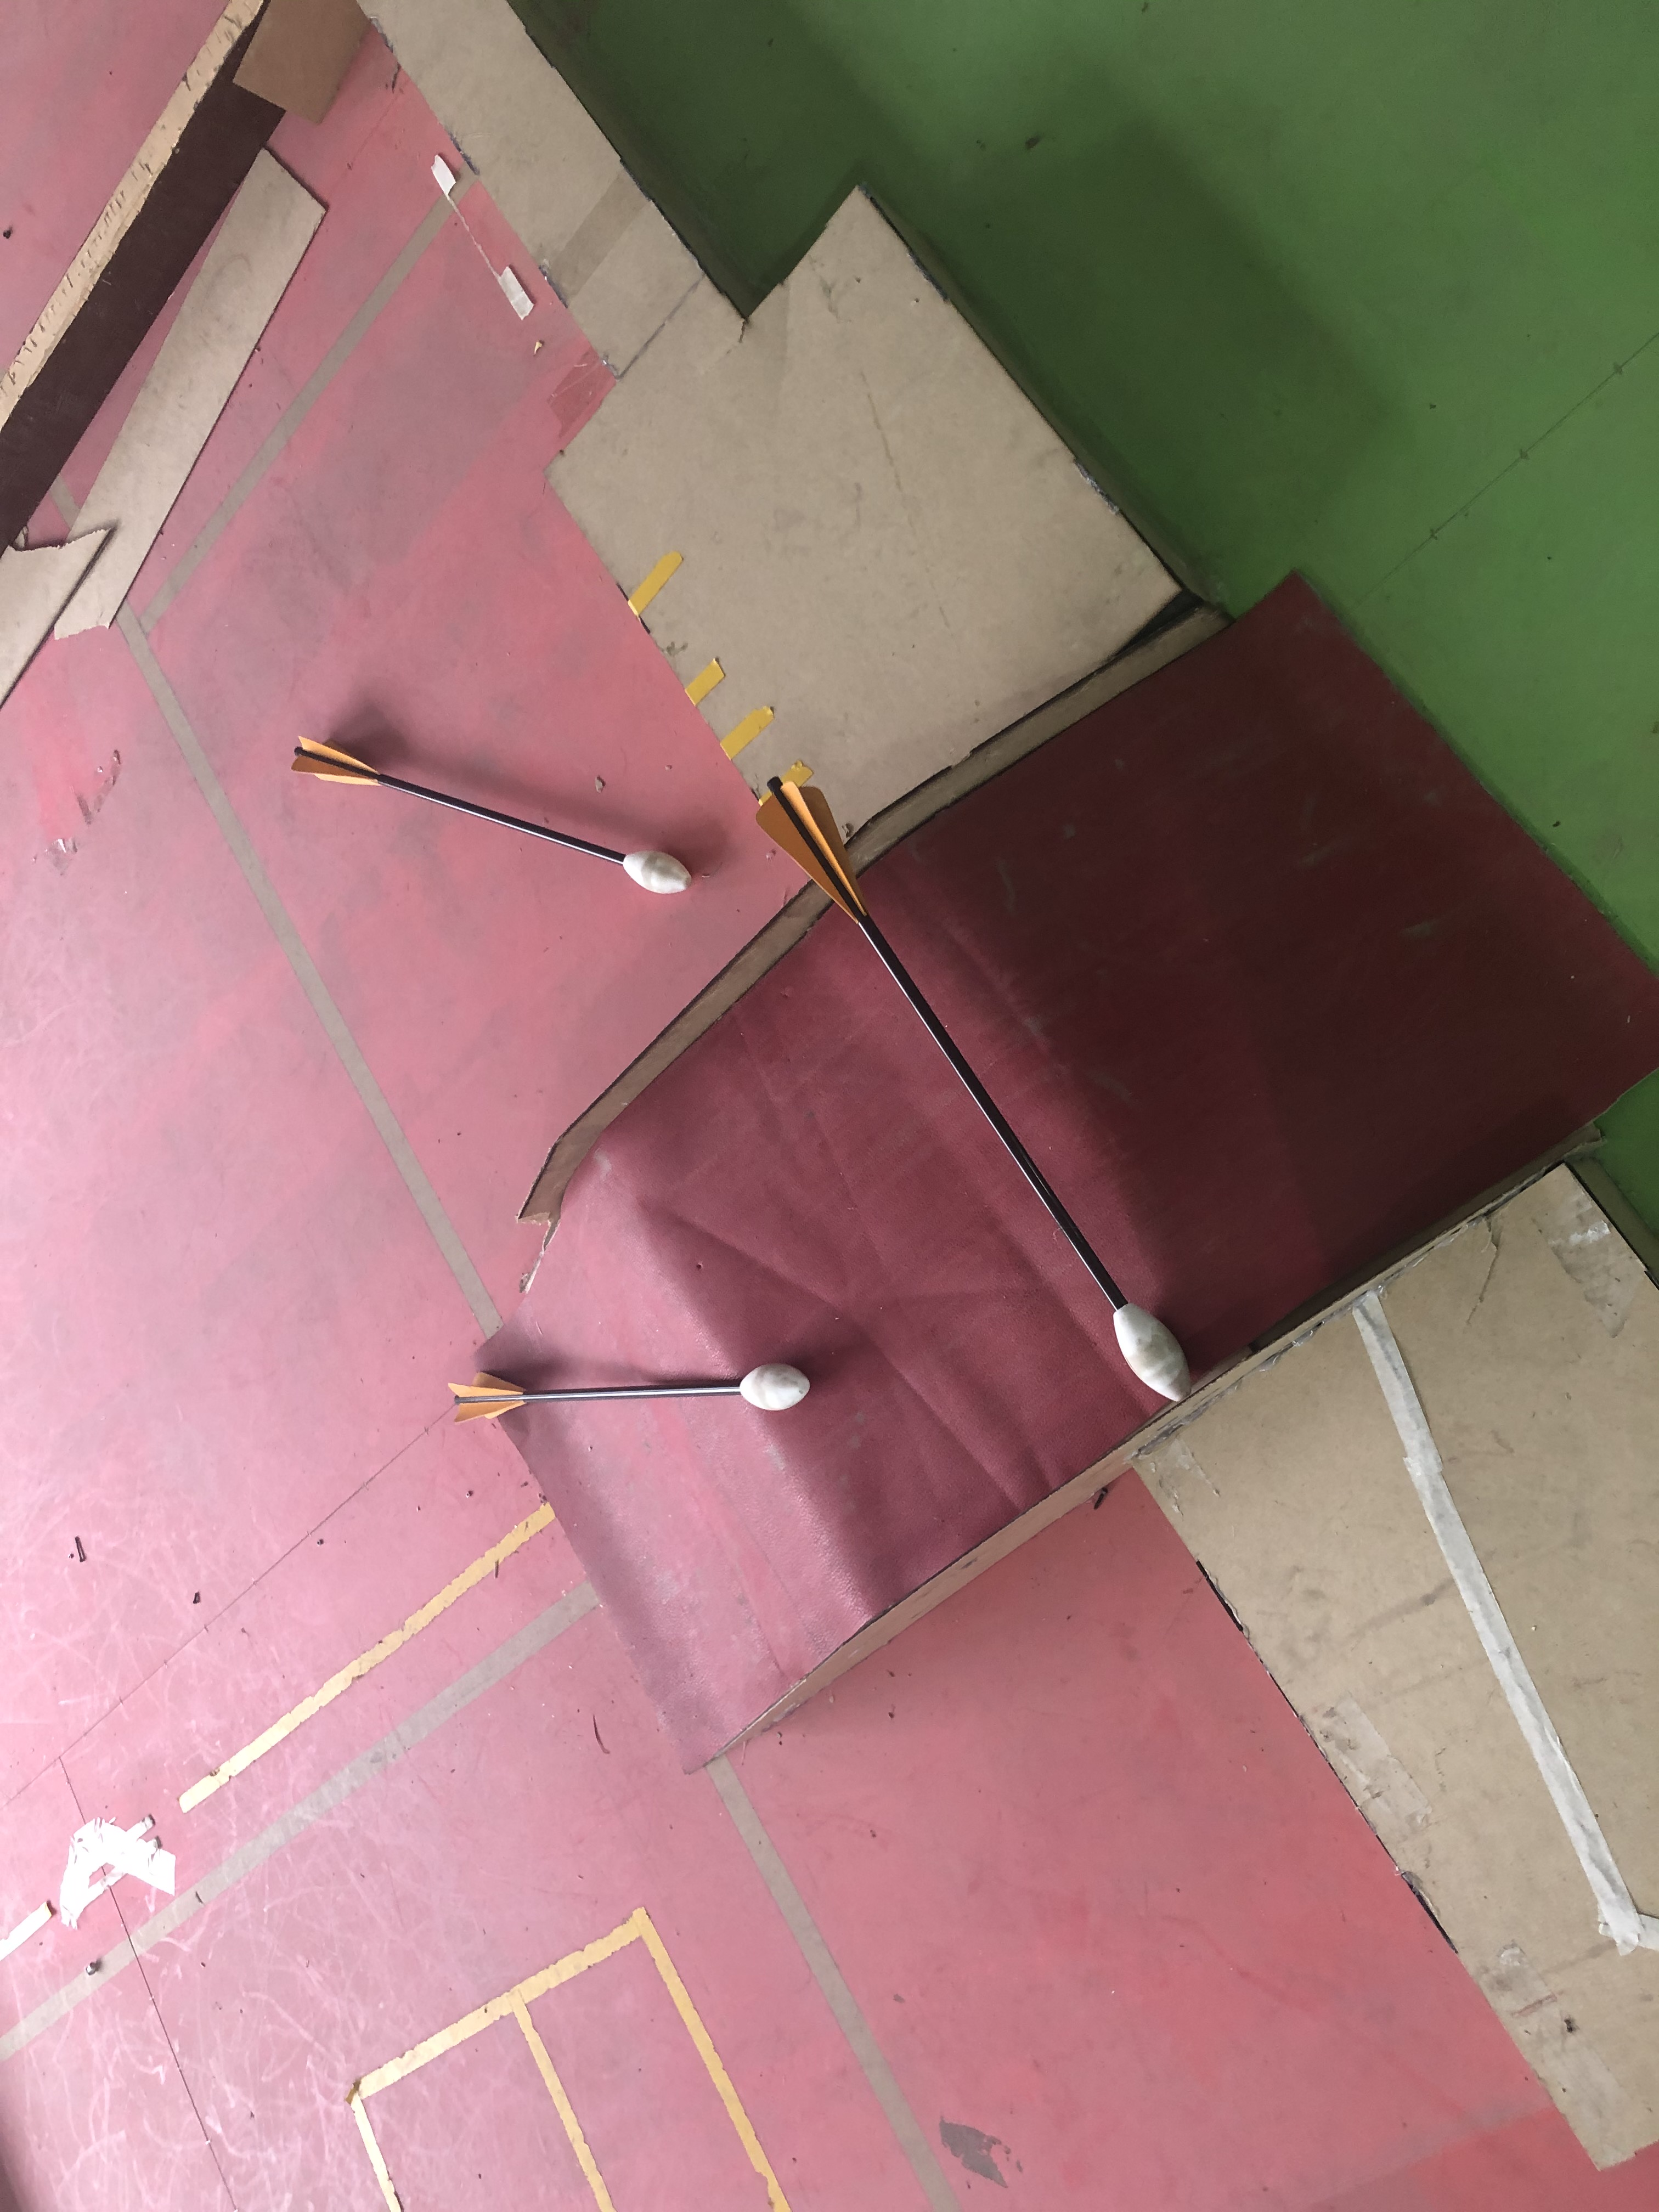arrow: (753, 768, 1183, 1409), (289, 733, 690, 897), (448, 1360, 802, 1423)
arrowFront: (1108, 1294, 1187, 1406), (615, 841, 695, 900), (735, 1362, 812, 1413)
